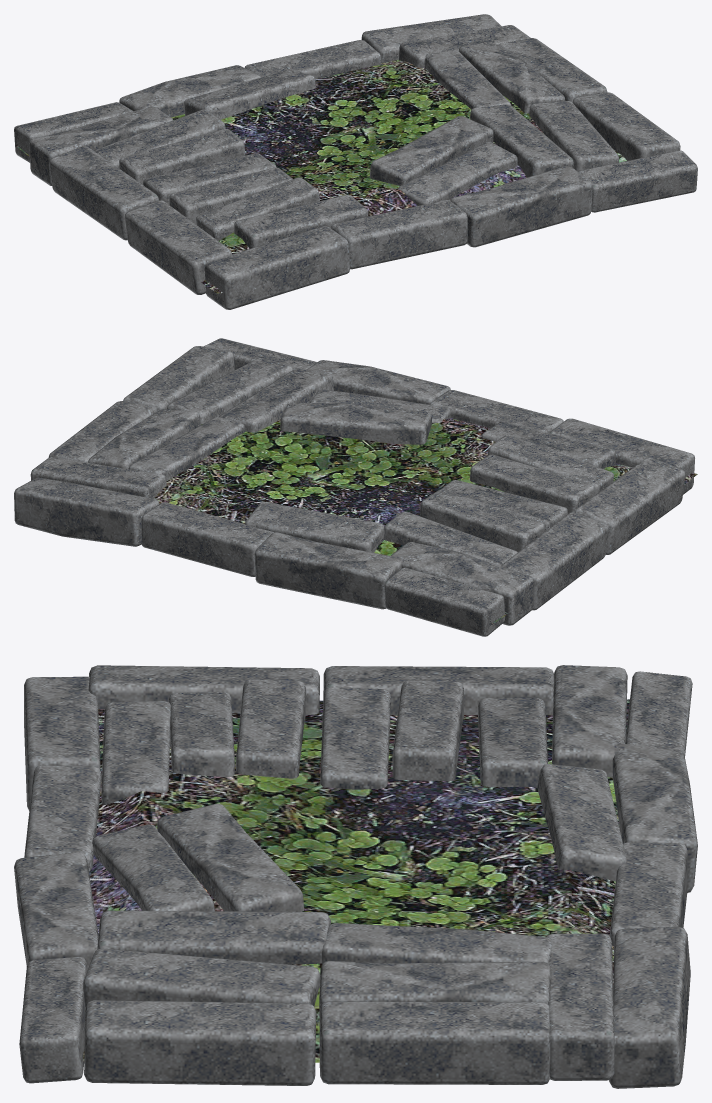
The model's file is Flowerbed_04.fbx.
3 views of the same model, one above another, from view 1: azimuth 30°, elevation 25°; view 2: azimuth 150°, elevation 25°; view 3: azimuth 270°, elevation 25° (orthographic). The views are drawn at different scales.
Parts seen in each view (by area): view 1: Flowerbed_04_LOD0; view 2: Flowerbed_04_LOD0; view 3: Flowerbed_04_LOD0.
Boxes of the visible parts, x1,y1,x2,y2 form: Flowerbed_04_LOD0: (14,14,697,309); Flowerbed_04_LOD0: (14,338,697,636); Flowerbed_04_LOD0: (14,665,697,1088).
Size of what is drawn, in the model's own units: 105 by 11.88 by 80.33.
